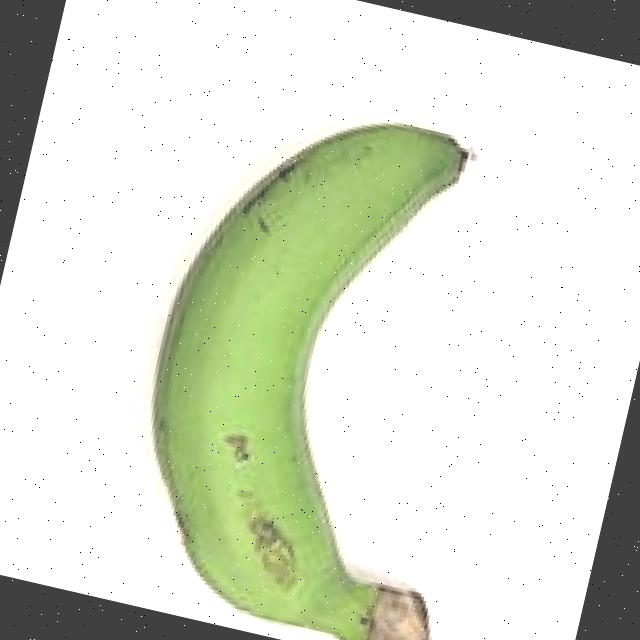Raw: (79, 27, 606, 640)
